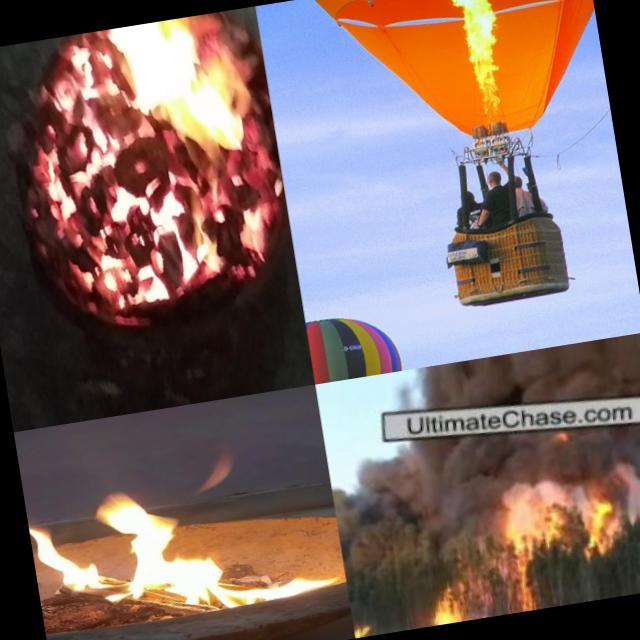fire: (89, 8, 294, 326), (20, 427, 322, 638), (0, 32, 135, 344), (492, 476, 622, 614), (441, 0, 520, 123), (414, 575, 468, 628), (351, 609, 373, 638)
smoke: (334, 443, 502, 560), (582, 422, 640, 544)
